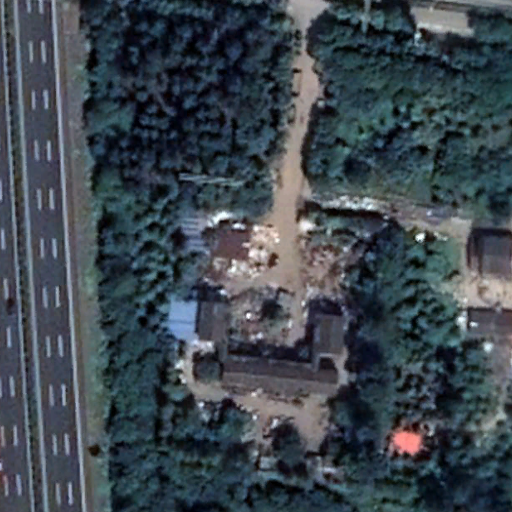msw: (220, 214, 343, 360)
